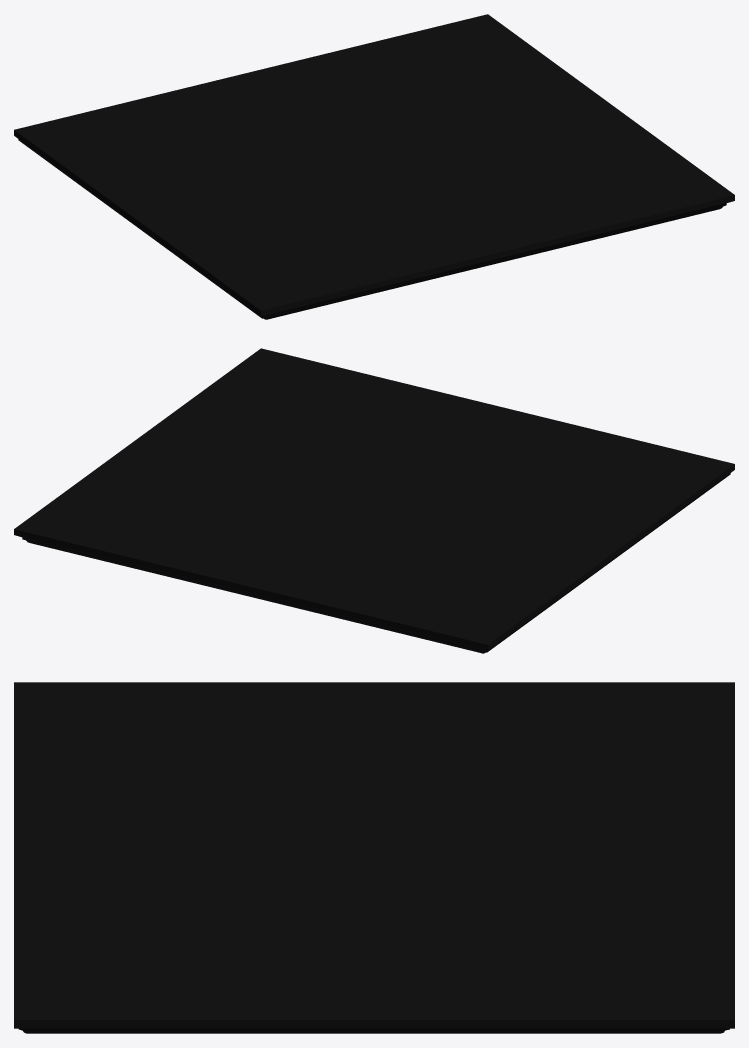
File: Roof.FBX
3 renders of one model, top to bottom at view 1: azimuth 30°, elevation 25°; view 2: azimuth 150°, elevation 25°; view 3: azimuth 270°, elevation 25°, orthographic. The views are drawn at different scales.
Parts seen in each view (by area): view 1: Plane002; view 2: Plane002; view 3: Plane002.
Boxes of the visible parts, x1,y1,x2,y2 form: Plane002: [14, 14, 734, 319]; Plane002: [14, 348, 734, 653]; Plane002: [14, 682, 734, 1033].
Bounding box in the file's own units: 418 × 12.84 × 377.
2 materials, 2 textured.
